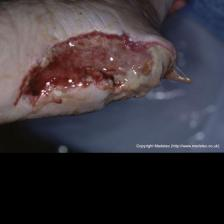Wound: (11, 29, 200, 117)
